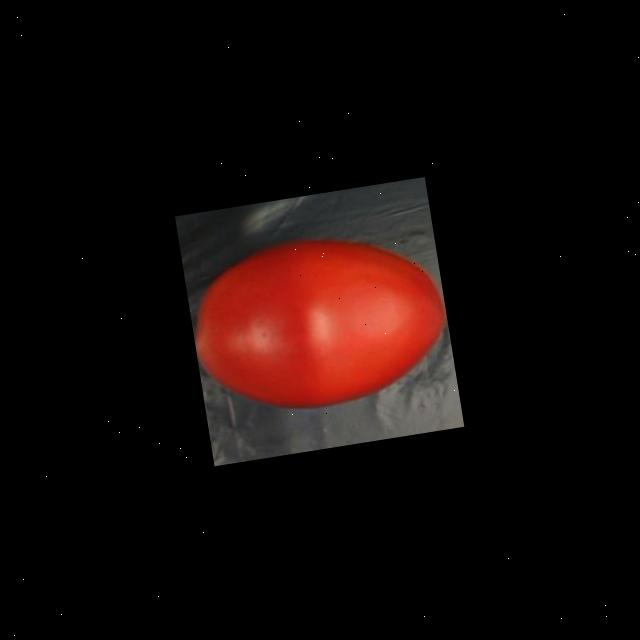tomato: (182, 215, 459, 429)
